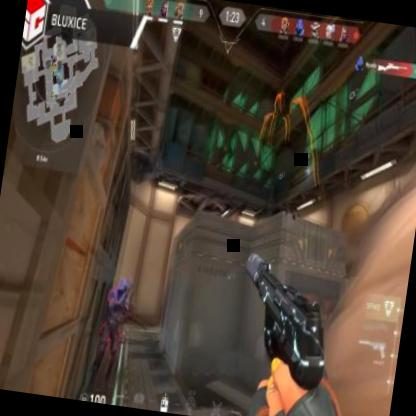enemy: (85, 272, 130, 402)
enemy_head: (116, 275, 128, 295)
